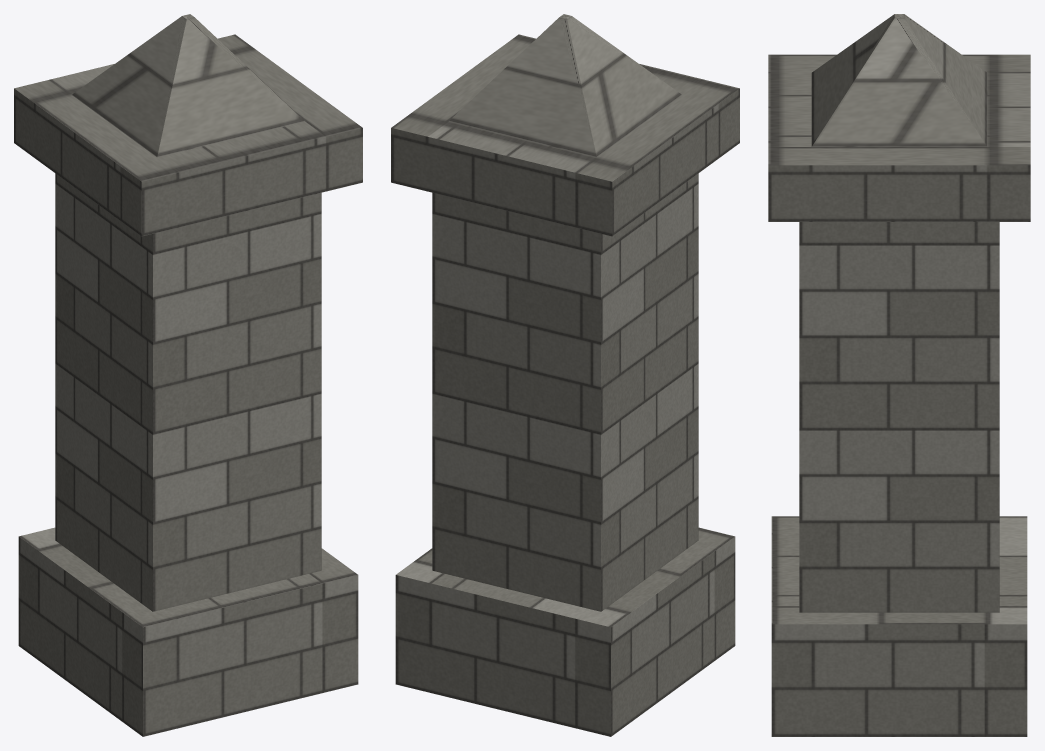
File: gate_post.glb
3 renders of one model, left to right at view 1: azimuth 30°, elevation 25°; view 2: azimuth 150°, elevation 25°; view 3: azimuth 270°, elevation 25°, orthographic. The views are drawn at different scales.
Parts seen in each view (by area): view 1: model; view 2: model; view 3: model.
Part boxes in pixels (left/top/right/bottom): model: left=14, top=14, right=362, bottom=736; model: left=391, top=14, right=739, bottom=736; model: left=768, top=14, right=1030, bottom=736.
Size of the model in its own units: 0.76 by 2.13 by 0.76.
1 material, 1 textured.
